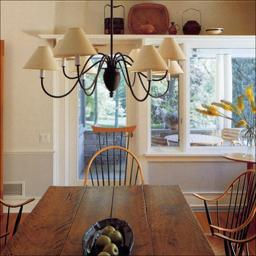Puerta: (63, 51, 140, 180)
Ventana: (143, 41, 254, 155)
